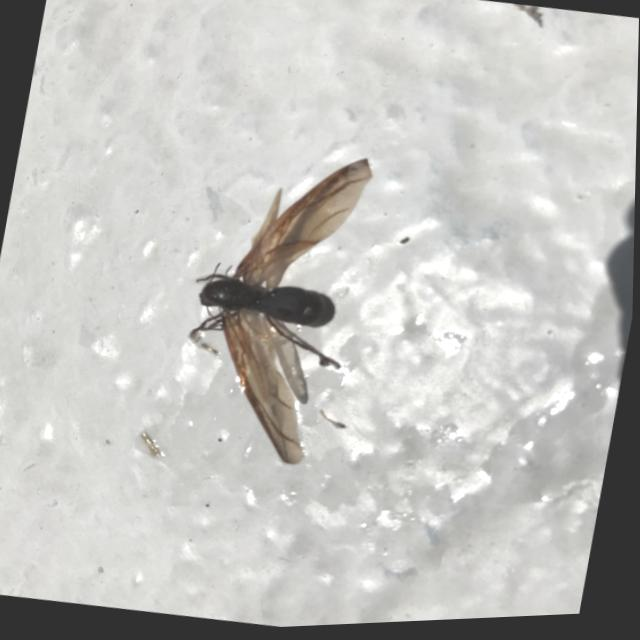Dead-Female-Alate: (166, 137, 380, 478)
